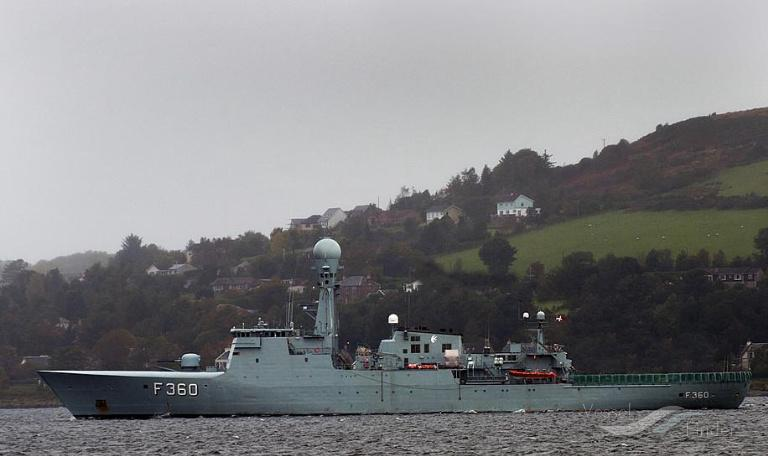OCR: (150, 376, 207, 404), (678, 388, 710, 406)
